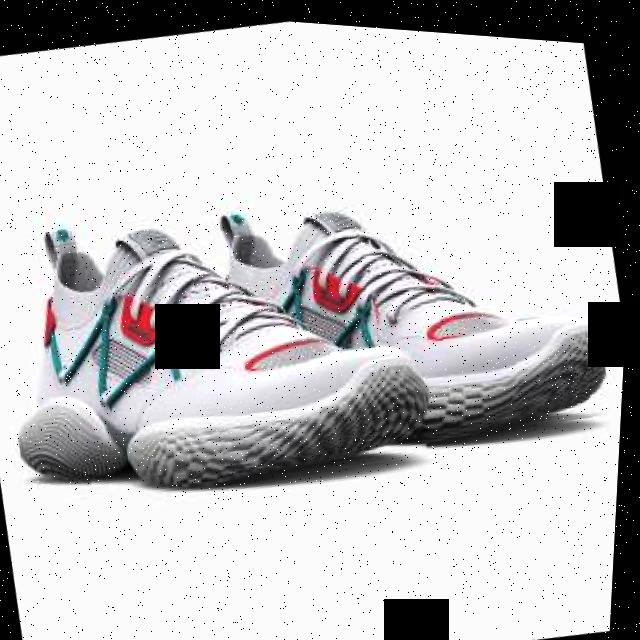shoe: (0, 160, 446, 530), (175, 139, 626, 486)
